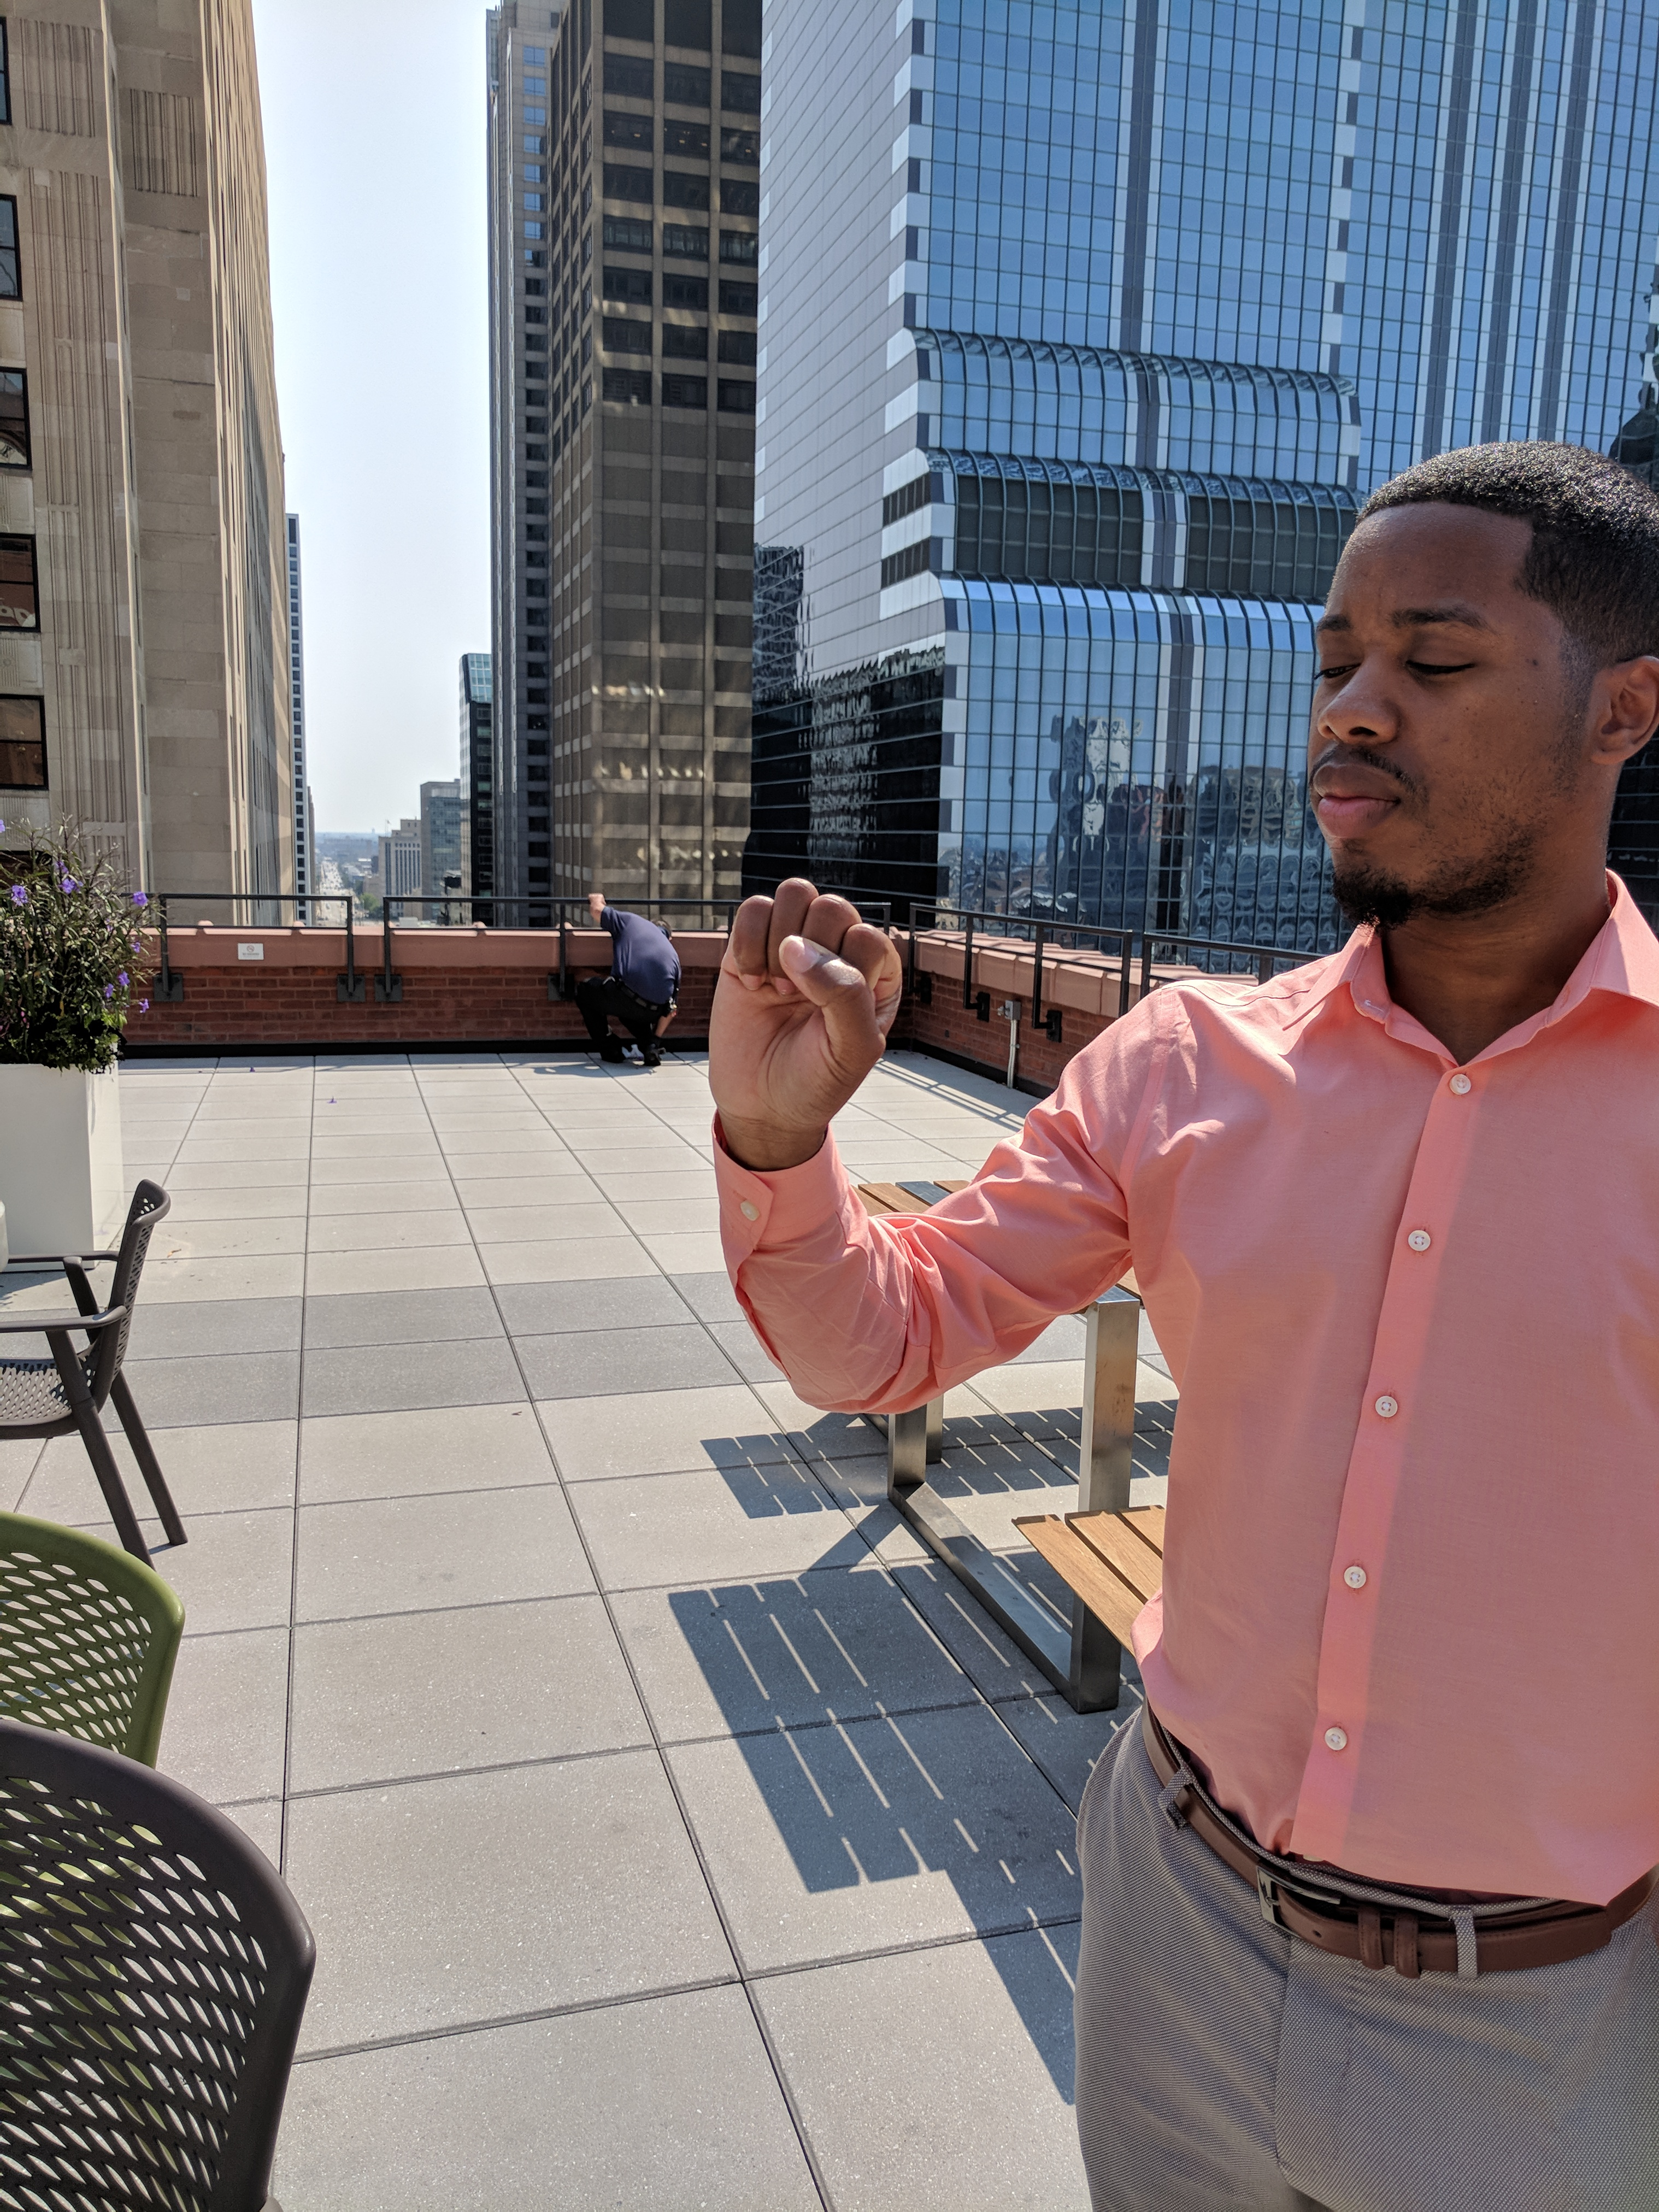s: (697, 869, 903, 1144)
